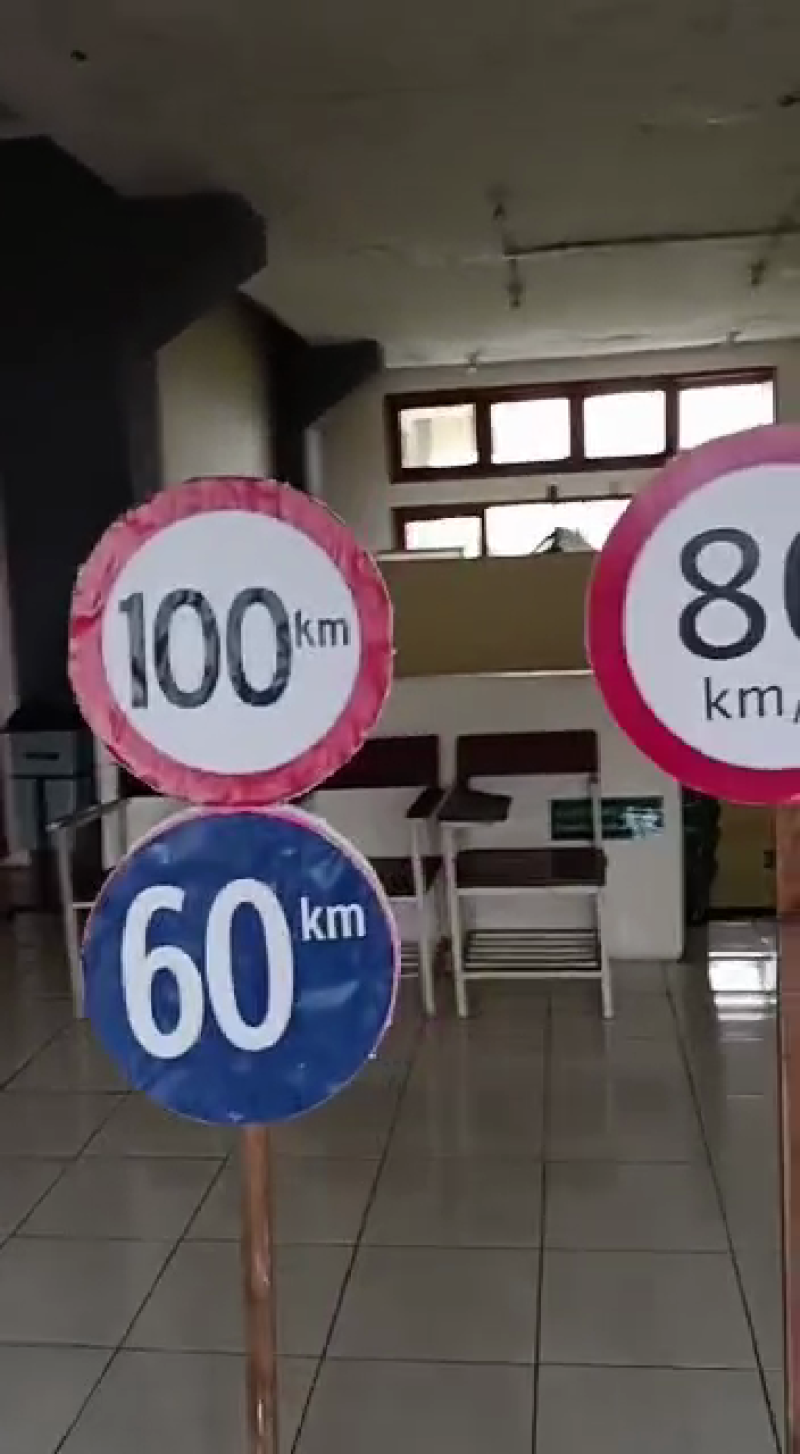batas maksimal 100kmperjam minimal 60kmperjam: (66, 467, 392, 1129)
batas maksimal 80kmperjam: (566, 418, 800, 816)
